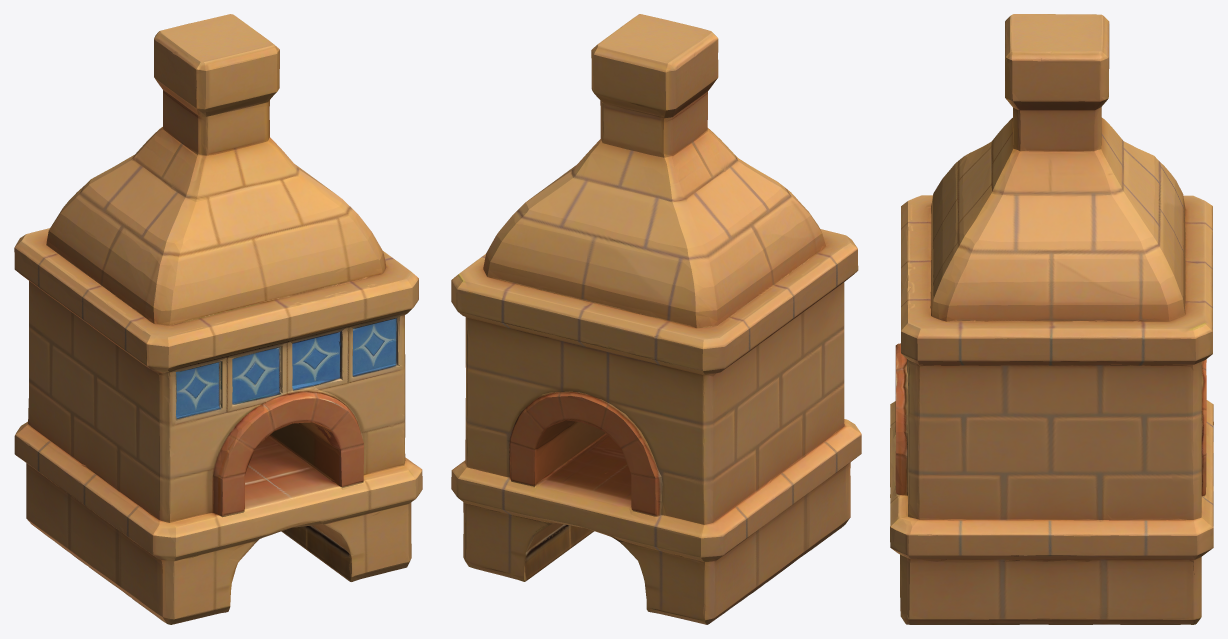
Rendered from Brick_OvenCharm_0413162225_texture.fbx.
3 views of the same model, side by side, from view 1: azimuth 30°, elevation 25°; view 2: azimuth 150°, elevation 25°; view 3: azimuth 270°, elevation 25° (orthographic). The views are drawn at different scales.
Visible parts, largest first — view 1: temp; view 2: temp; view 3: temp.
Part boxes in pixels (x1,y1,x2,y2): temp: (14, 14, 422, 624); temp: (451, 14, 861, 624); temp: (890, 14, 1213, 624).
Size of the model in its own units: 113 by 200 by 111.
Materials: 1 (1 with a texture image).
